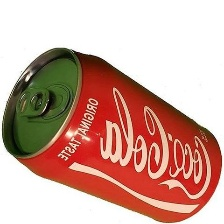can: (0, 41, 224, 224)
